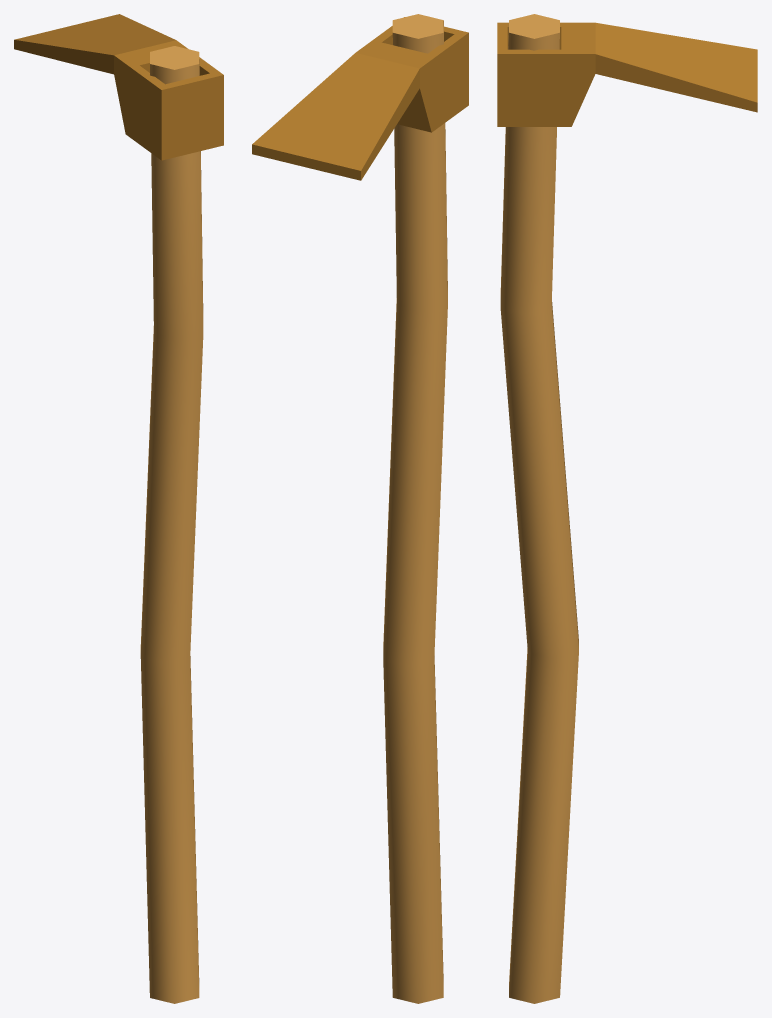
File: P_Hoe_02_LD.fbx
3 views of the same model, side by side, from view 1: azimuth 30°, elevation 25°; view 2: azimuth 150°, elevation 25°; view 3: azimuth 270°, elevation 25° (orthographic). The views are drawn at different scales.
Visible parts, largest first — view 1: P_Hoe_02; view 2: P_Hoe_02; view 3: P_Hoe_02.
Boxes of the visible parts, <box> form: P_Hoe_02: <box>14,14,223,1003</box>; P_Hoe_02: <box>252,14,468,1003</box>; P_Hoe_02: <box>497,14,757,1003</box>.
Size of the model in its own units: 12.59 by 106 by 26.03.
